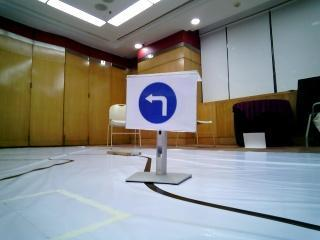left: (131, 77, 187, 129)
